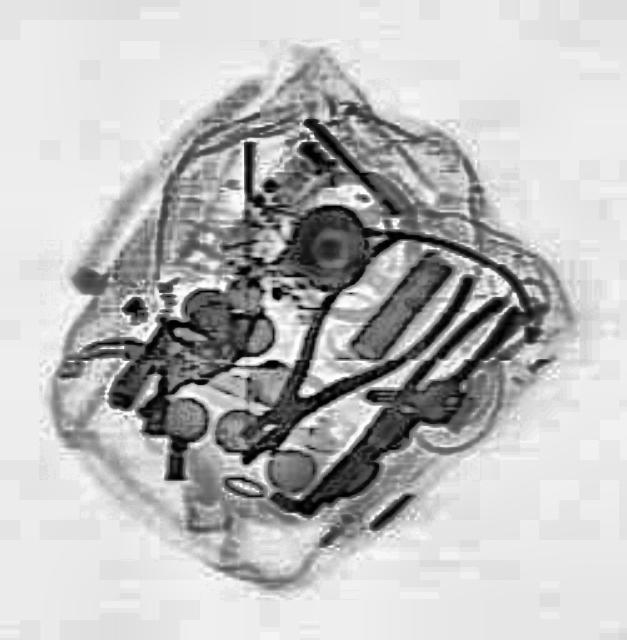Pliers: (200, 212, 480, 480), (298, 287, 522, 513)
